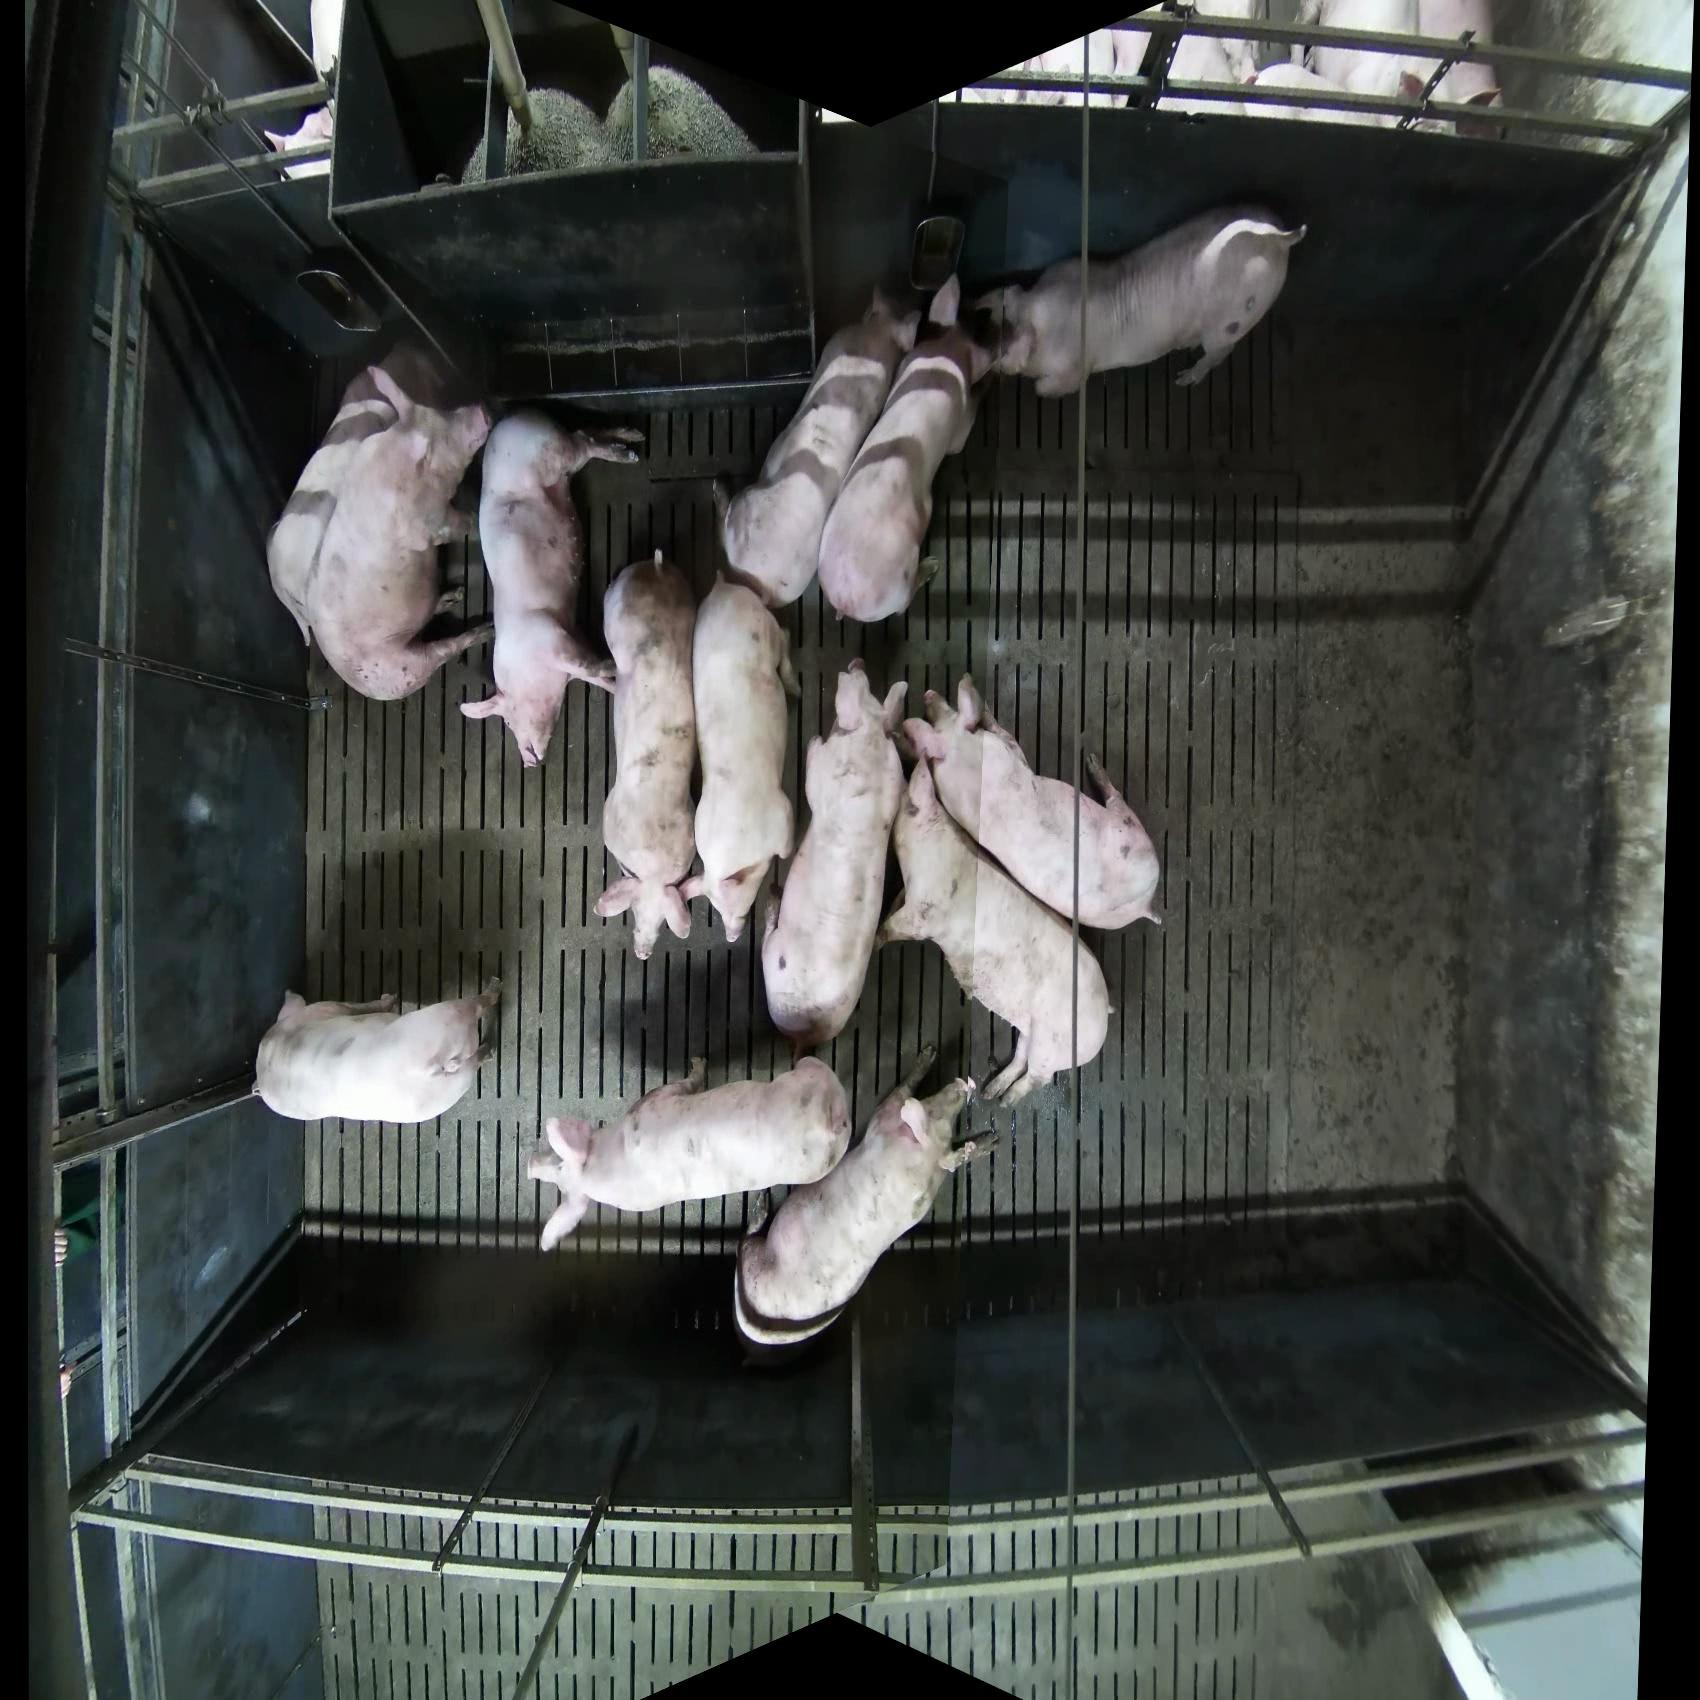pig: (878, 747, 1115, 1110), (265, 346, 495, 704), (732, 1073, 999, 1350), (716, 274, 926, 610), (458, 403, 648, 771), (901, 673, 1166, 933), (973, 199, 1309, 402), (816, 272, 1003, 624), (528, 1052, 853, 1253), (760, 659, 911, 1063), (592, 550, 699, 962), (683, 581, 802, 945), (252, 978, 504, 1126), (1244, 2, 1505, 139), (1403, 2, 1505, 142)
